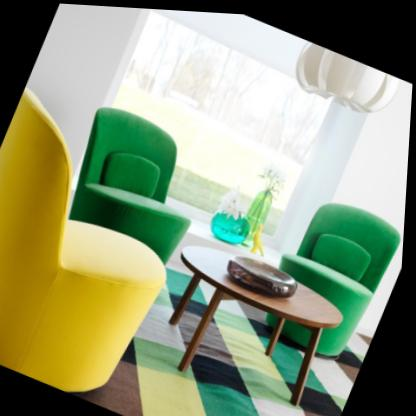Sofa: (0, 82, 221, 410), (250, 174, 408, 368)
Table: (138, 224, 361, 416)
